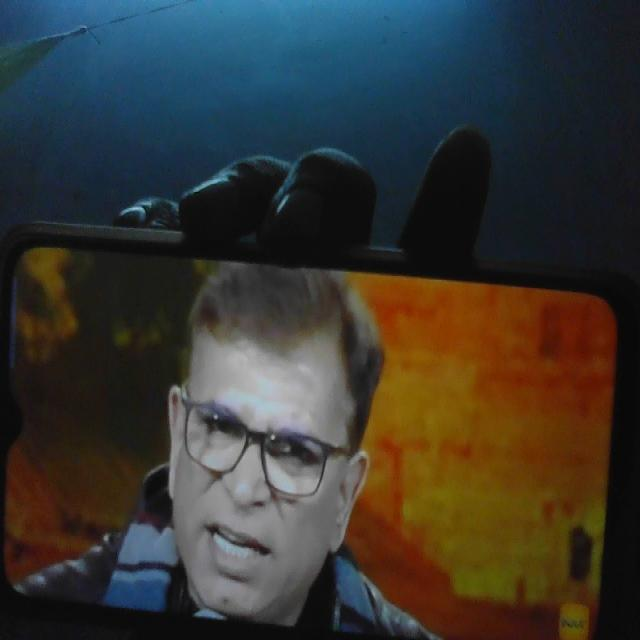fake: (155, 241, 361, 631)
